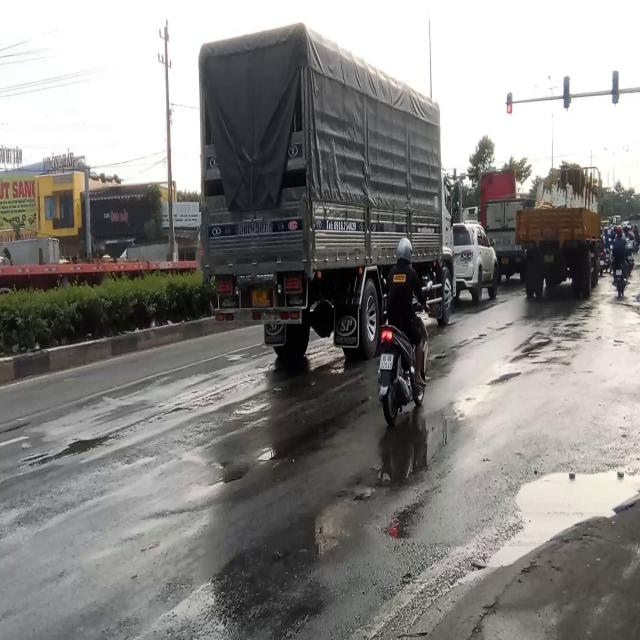bien_vang: (251, 288, 269, 304)
